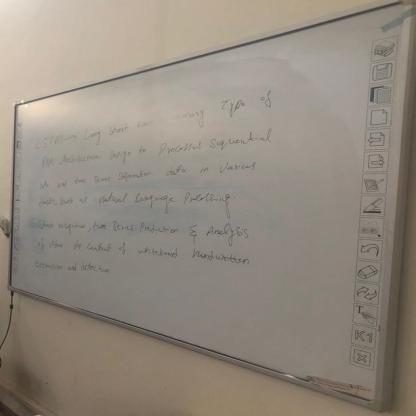Handwritten text: (28, 82, 287, 153), (31, 123, 282, 171), (35, 157, 260, 191), (29, 236, 256, 268), (33, 186, 250, 219), (33, 216, 262, 246), (30, 257, 113, 279)
